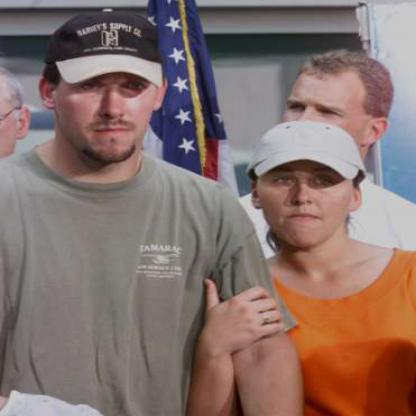face: (56, 14, 158, 166), (260, 123, 354, 248), (282, 51, 376, 170)
